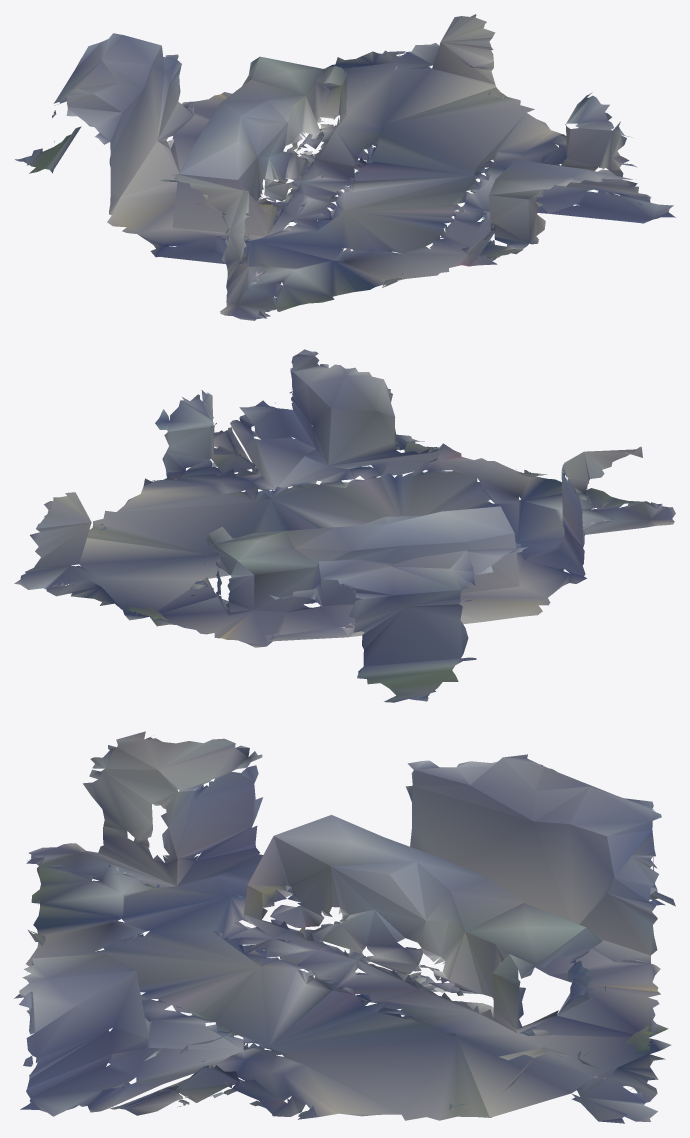
3 renders of one model, top to bottom at view 1: azimuth 30°, elevation 25°; view 2: azimuth 150°, elevation 25°; view 3: azimuth 270°, elevation 25°, orthographic. The views are drawn at different scales.
Bounding box in the file's own units: 108 × 26.13 × 108.
